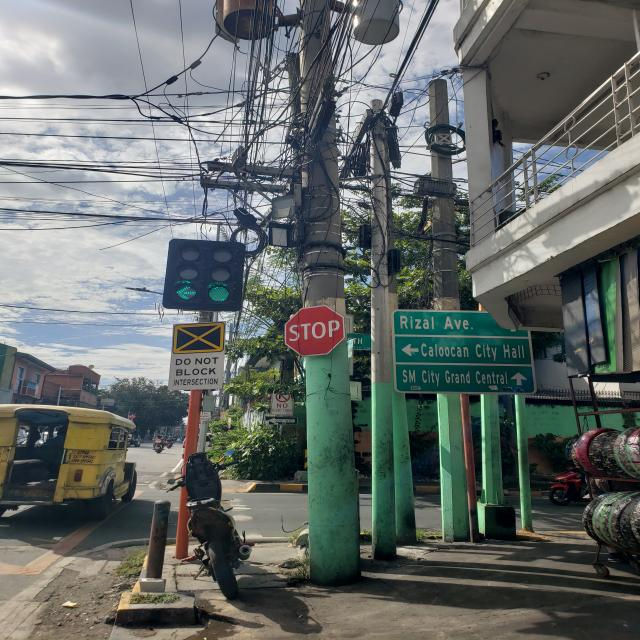stop-sign: (285, 304, 346, 356)
